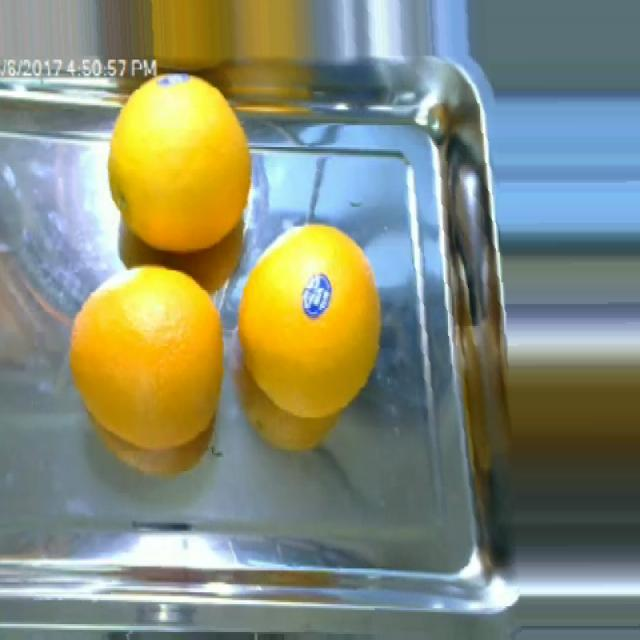Fruit: (92, 60, 252, 284), (226, 290, 382, 463)
